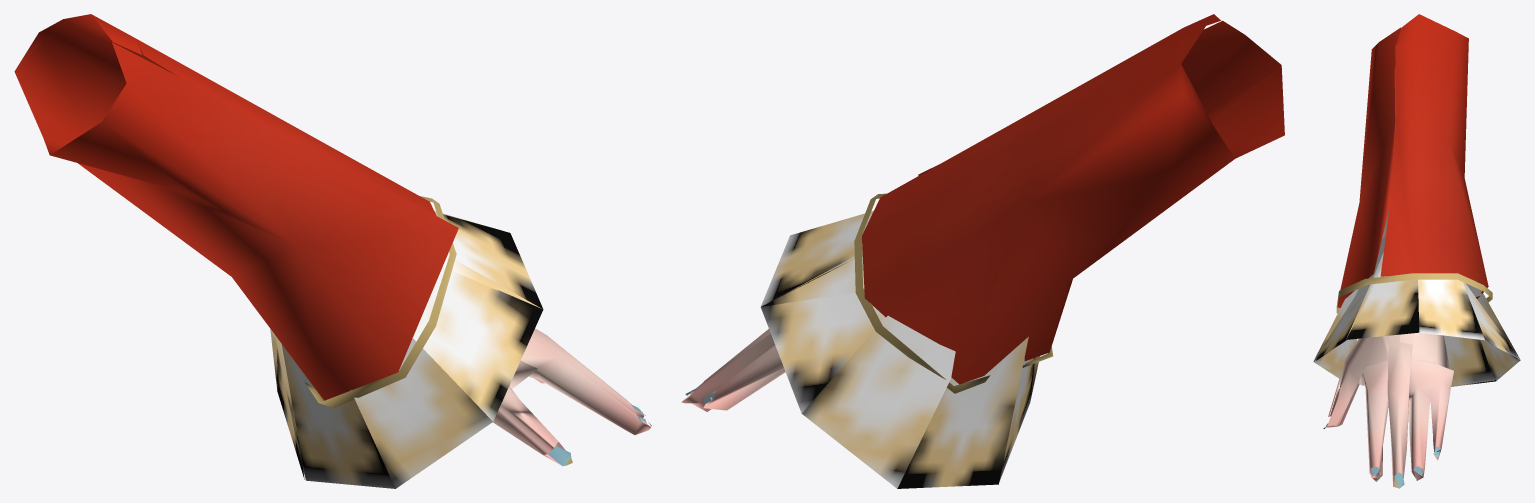
File: nero_brazo_1.obj
3 renders of one model, left to right at view 1: azimuth 30°, elevation 25°; view 2: azimuth 150°, elevation 25°; view 3: azimuth 270°, elevation 25°, orthographic. The views are drawn at different scales.
Visible parts, largest first — view 1: brazo1_Body_TDA_Saber_Nero.001; view 2: brazo1_Body_TDA_Saber_Nero.001; view 3: brazo1_Body_TDA_Saber_Nero.001.
Boxes of the visible parts, <box> form: brazo1_Body_TDA_Saber_Nero.001: <box>14,14,651,488</box>; brazo1_Body_TDA_Saber_Nero.001: <box>681,14,1284,488</box>; brazo1_Body_TDA_Saber_Nero.001: <box>1313,14,1520,488</box>.
Size of the model in its own units: 0.6928 by 0.5866 by 0.346.
